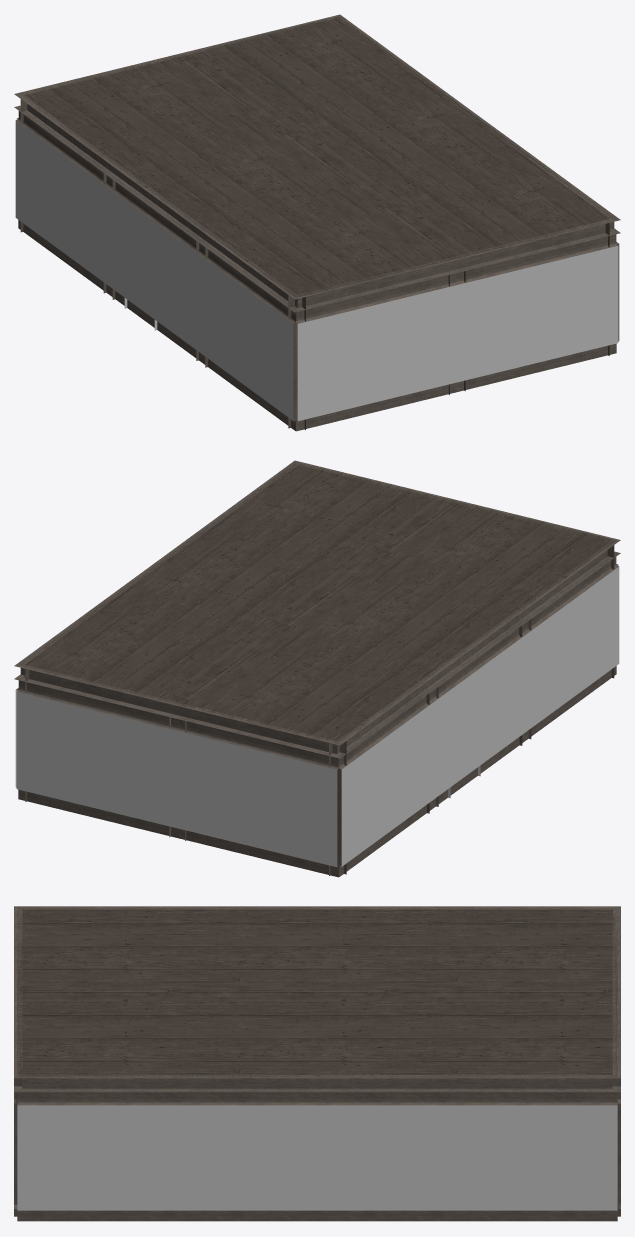
File: house_interior3.fbx
The picture shows the model from 3 angles, top to bottom: view 1: azimuth 30°, elevation 25°; view 2: azimuth 150°, elevation 25°; view 3: azimuth 270°, elevation 25°; orthographic projection. The views are drawn at different scales.
Visible parts, largest first — view 1: house_interior3; view 2: house_interior3; view 3: house_interior3.
Boxes of the visible parts, left/top/right/bottom form: house_interior3: left=14, top=14, right=620, bottom=431; house_interior3: left=14, top=460, right=620, bottom=877; house_interior3: left=14, top=906, right=620, bottom=1221.
Bounding box in the file's own units: 1017 × 399 × 1517.
